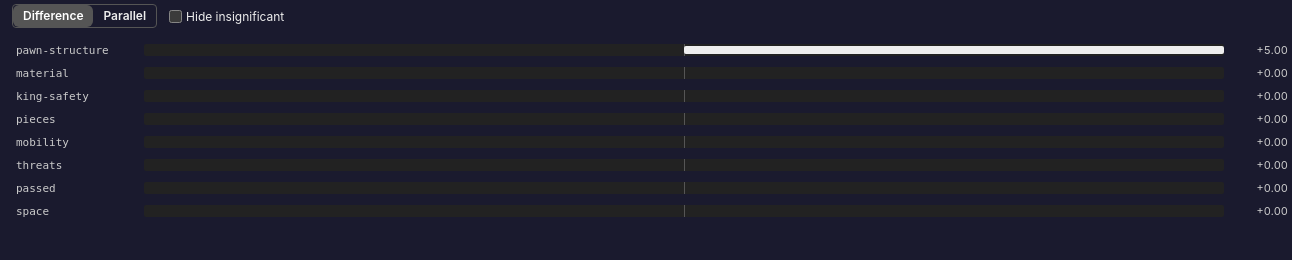
Test case: <CurrentPositionMetricsPanel> KS-4043 › двойная вложенность блок ↔ подкомпонента (KS-4043 follow-up) › повторный клик по блоку сворачивает его
Click the button with test id "current-metrics-row-pawn-structure": (652, 50) x1=12 y1=40 x2=1291 y2=59
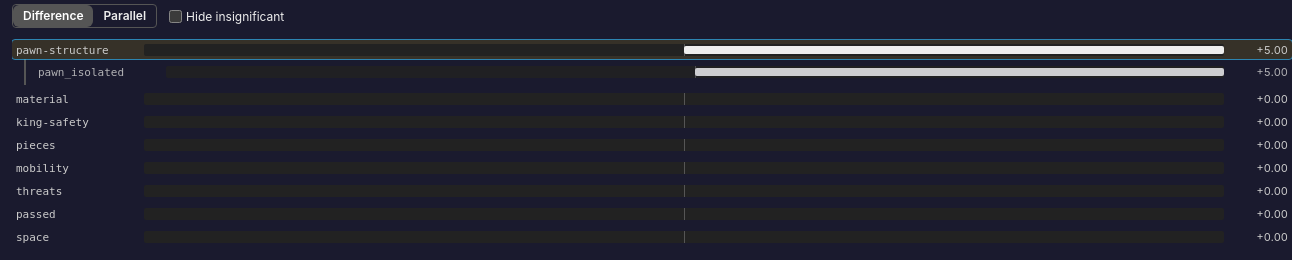
Now the element with test id "current-metrics-block-contributions-pawn-structure" is shown, box x1=24 y1=59 x2=1291 y2=85
Click the button with test id "current-metrics-row-pawn-structure": (652, 50) x1=12 y1=40 x2=1291 y2=59
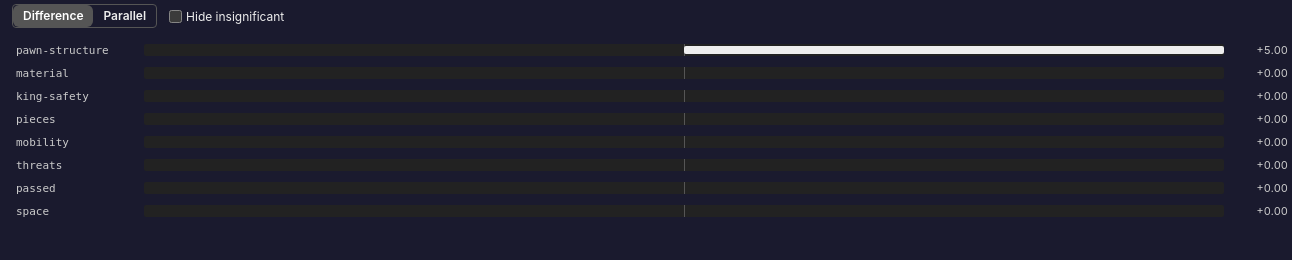
Now the element with test id "current-metrics-block-contributions-pawn-structure" is gone
